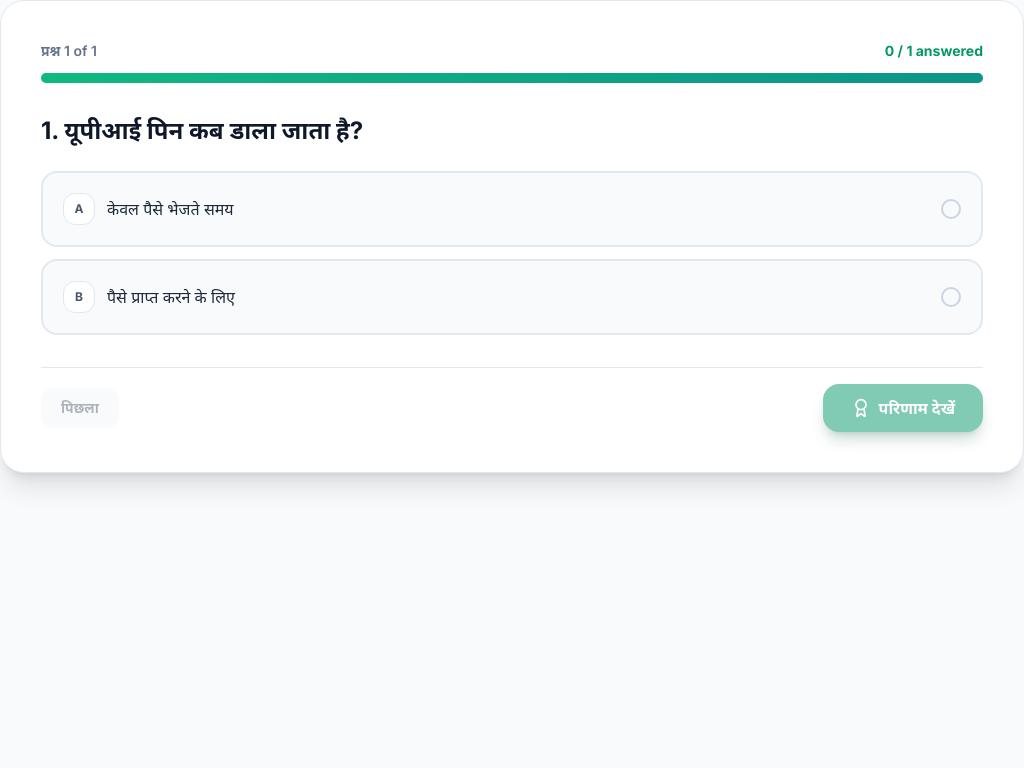
Test: Interactive Quiz Runner Suite › should render question and handle option selection and submission
This screenshot has width=1024, height=768.
Expected: the heading "1. यूपीआई पिन कब डाला जाता है?" is shown, [41,115,363,147]
Select the first option
Click the text "केवल पैसे भेजते समय" at (170, 209), box [107,197,234,221]
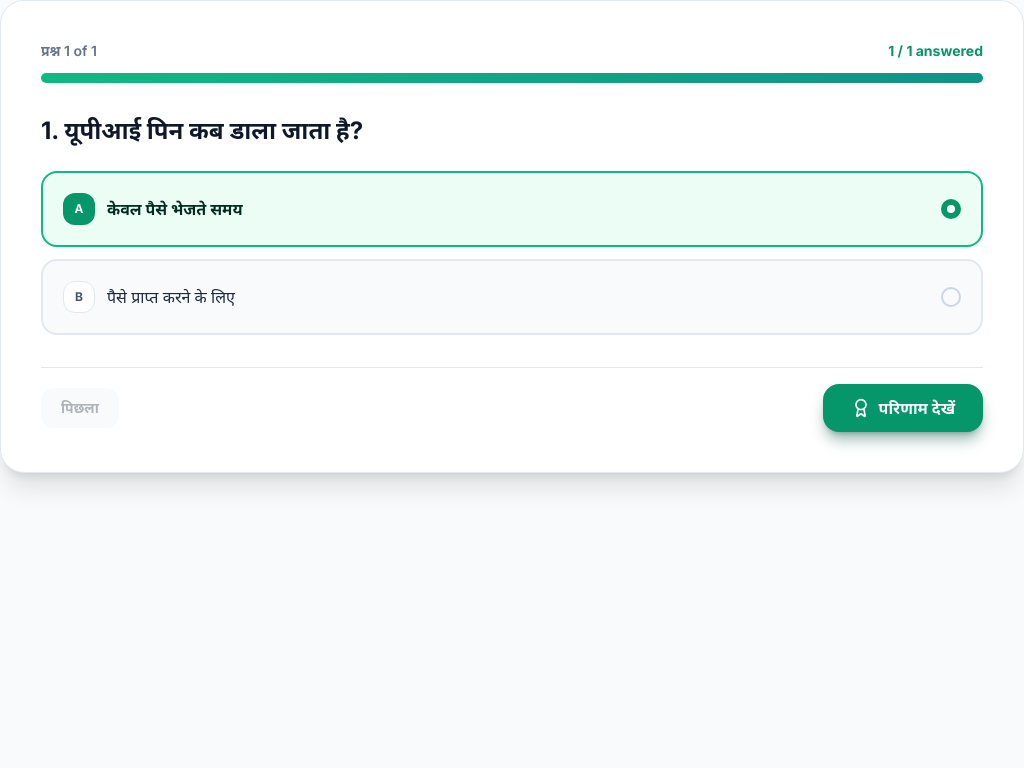
Submit button
Click the button "परिणाम देखें" at (903, 408), box [823,384,983,432]
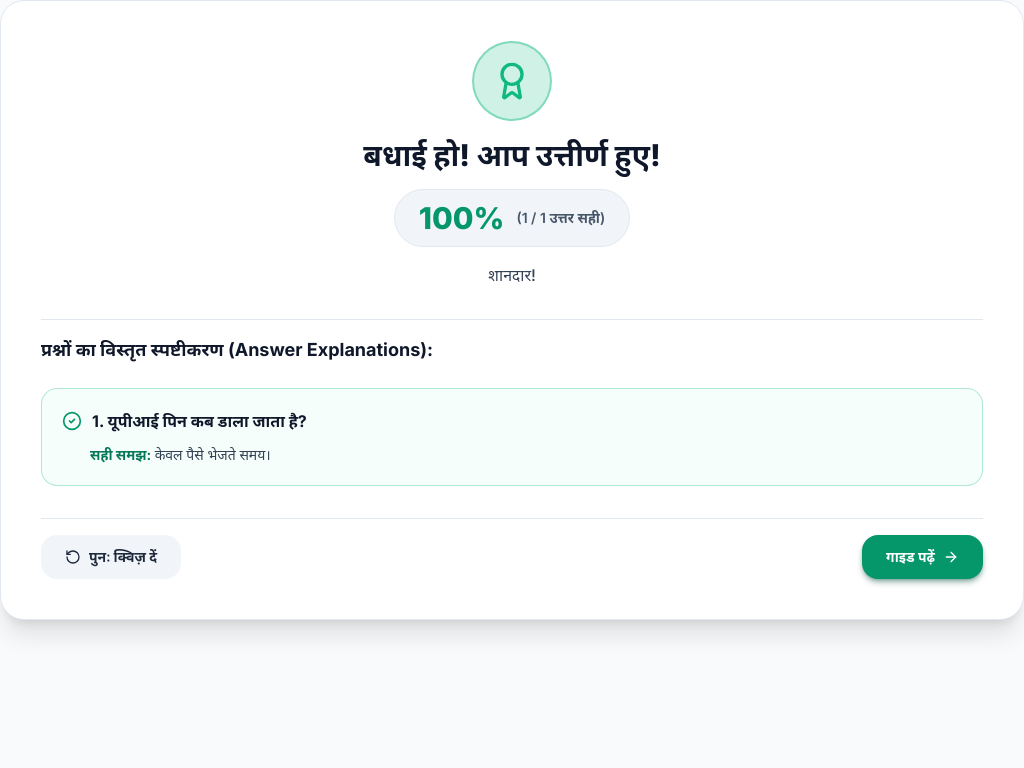
Now the text "100%" is shown, box [419,200,504,236]
Now the text "शानदार!" is shown, box [488,265,536,285]
